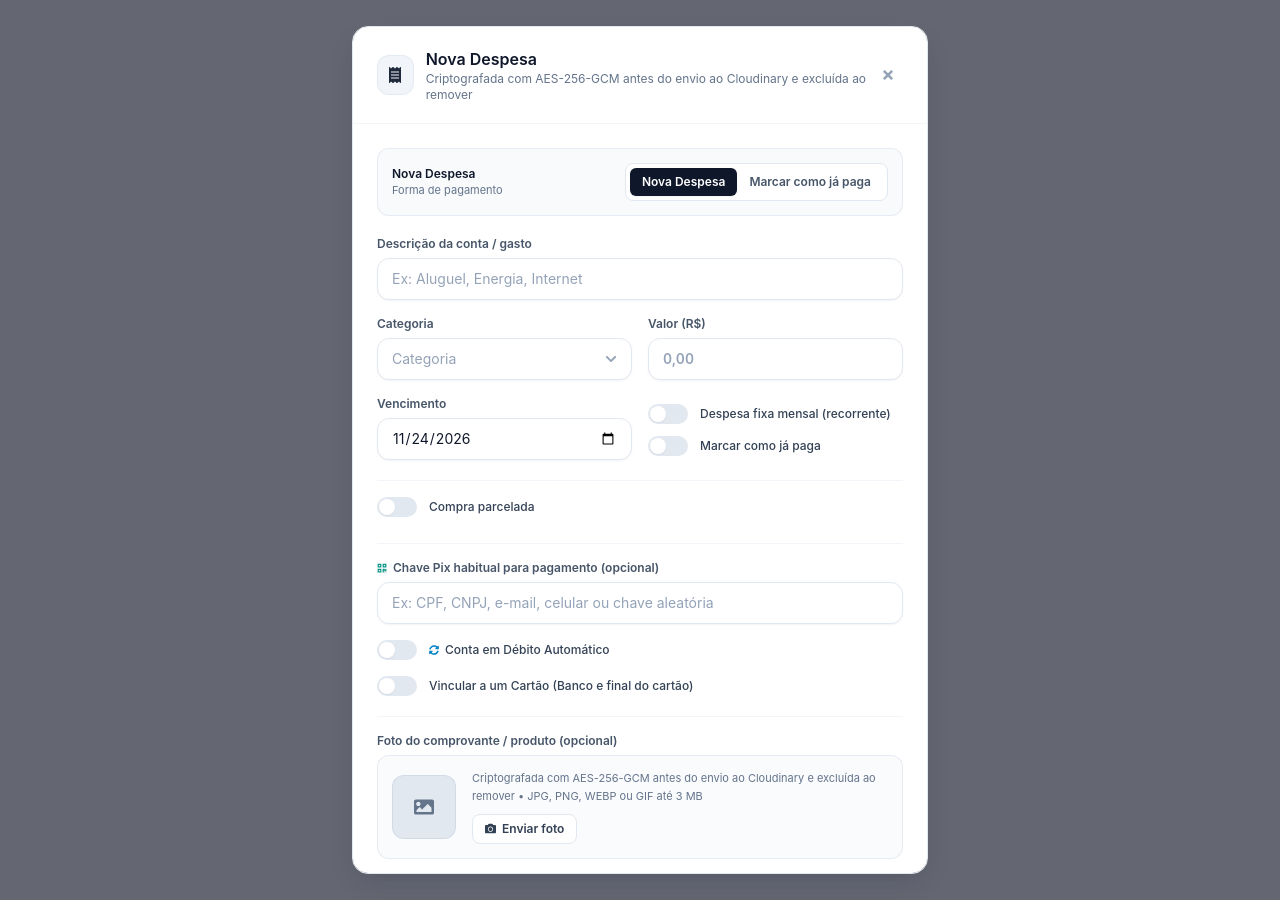
Test: ExpenseModal › formats value automatically with thousand separators while typing
Type "1500" into the field with placeholder "0,00".
click(776, 359); type("1500")  # box 648,338 -> 903,380
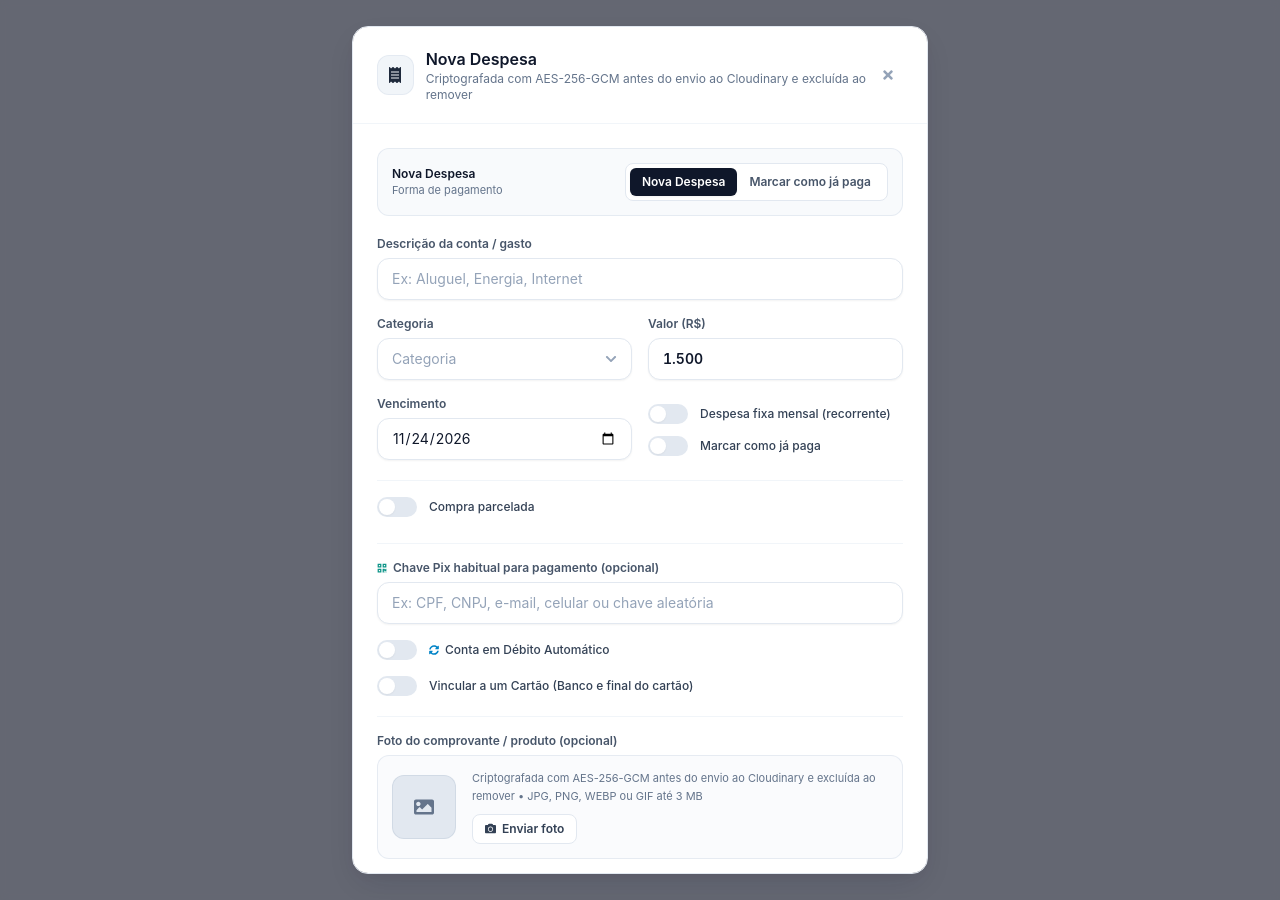
Check: the field with placeholder "0,00" holds "1.500"
Replace the text in the field with placeholder "0,00" with "15000,75" at x=776, y=359, box 648,338 -> 903,380
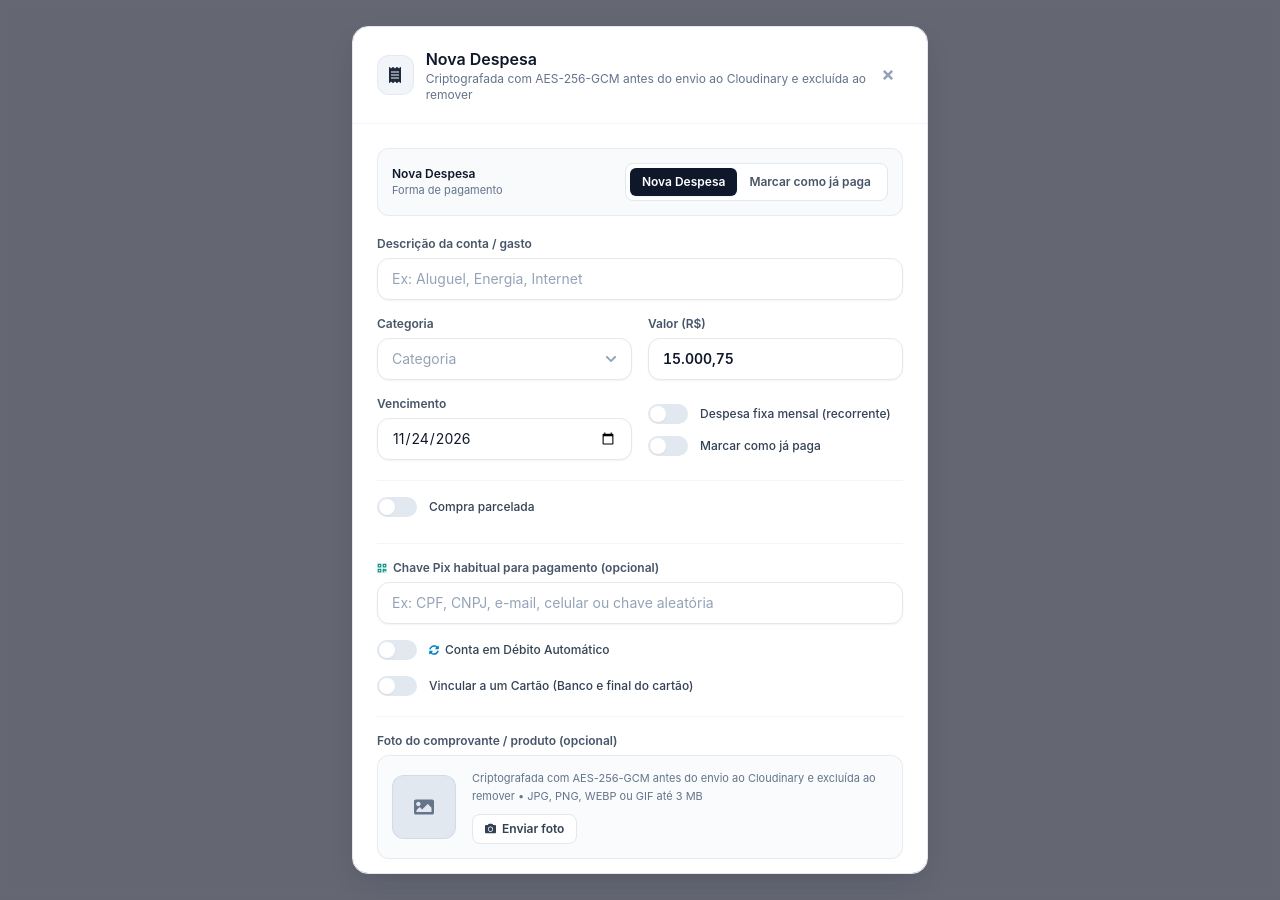
Check: the field with placeholder "0,00" holds "15.000,75", box 648,338 -> 903,380
